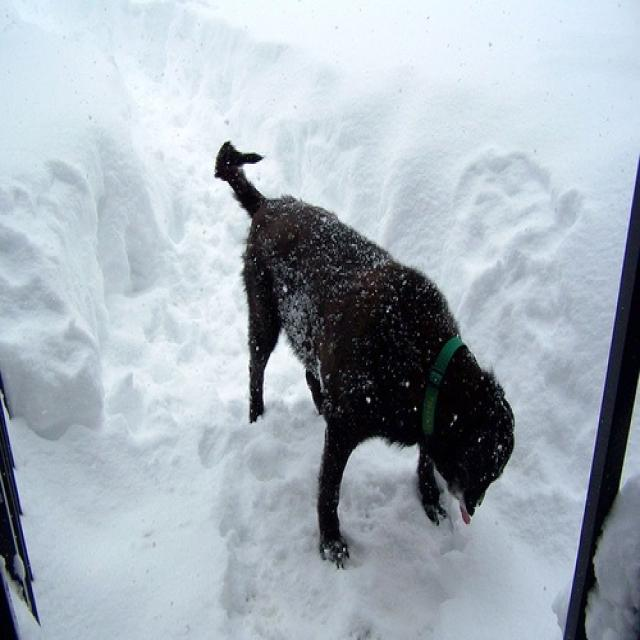dog: (212, 138, 520, 567)
